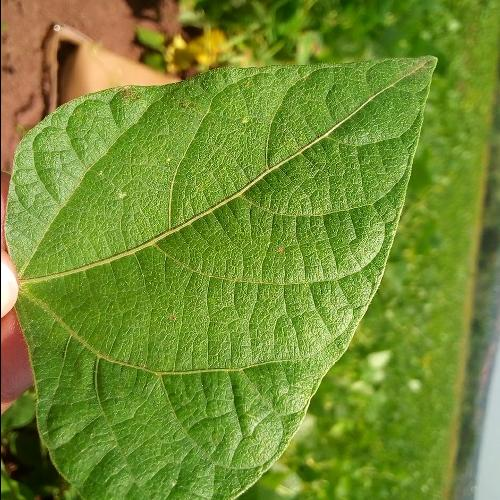mozaik: (64, 120, 248, 474), (270, 98, 350, 319)
